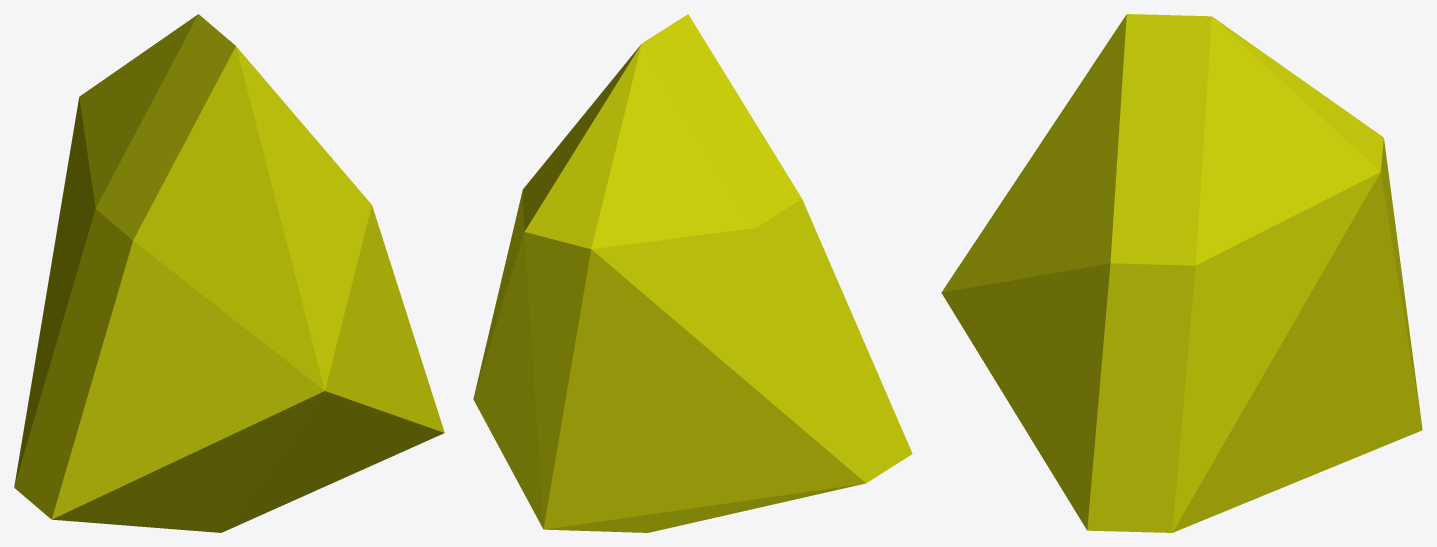
File: GobNose1.fbx
3 renders of one model, left to right at view 1: azimuth 30°, elevation 25°; view 2: azimuth 150°, elevation 25°; view 3: azimuth 270°, elevation 25°, orthographic.
Parts seen in each view (by area): view 1: Icosphere; view 2: Icosphere; view 3: Icosphere.
Boxes of the visible parts, box(x1,y1,x2,y2) form: Icosphere: box(14, 14, 444, 532); Icosphere: box(473, 14, 912, 532); Icosphere: box(941, 14, 1422, 532).
Bounding box in the file's own units: 0.0513 × 0.0598 × 0.053.
